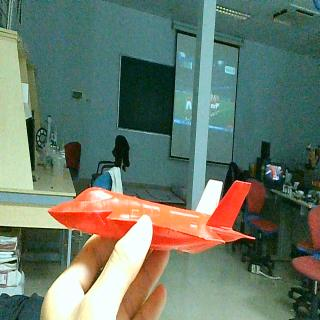Jet: (47, 178, 256, 262)
